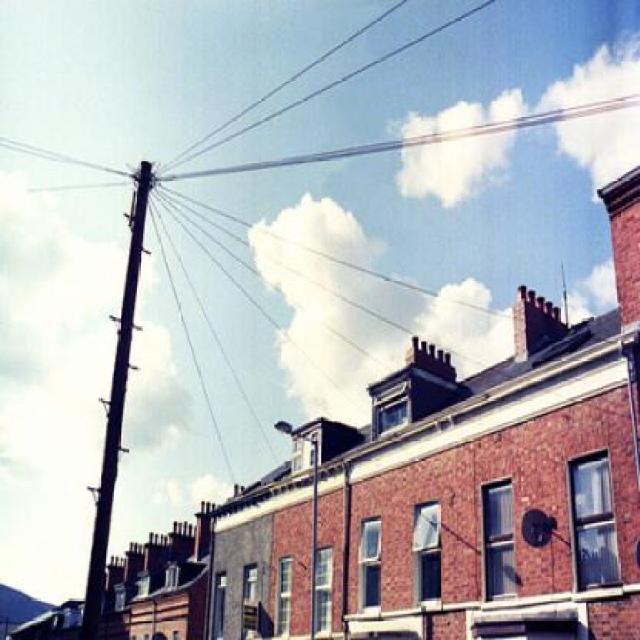pole: (40, 149, 172, 640)
